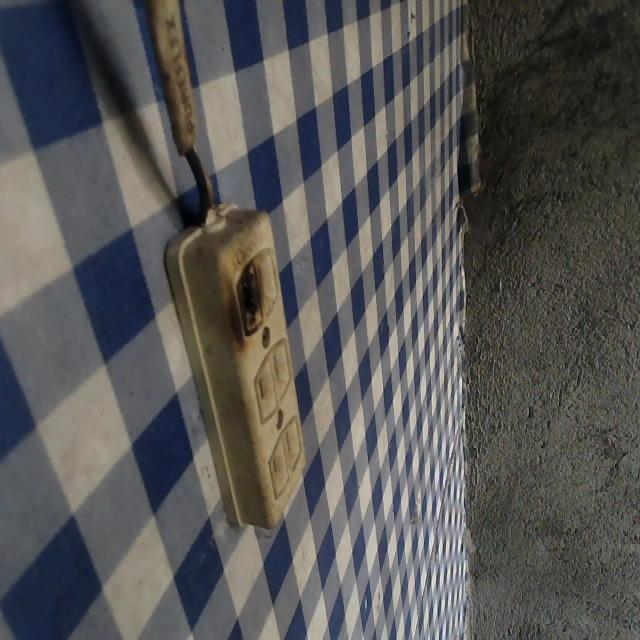-: (223, 250, 271, 342)
